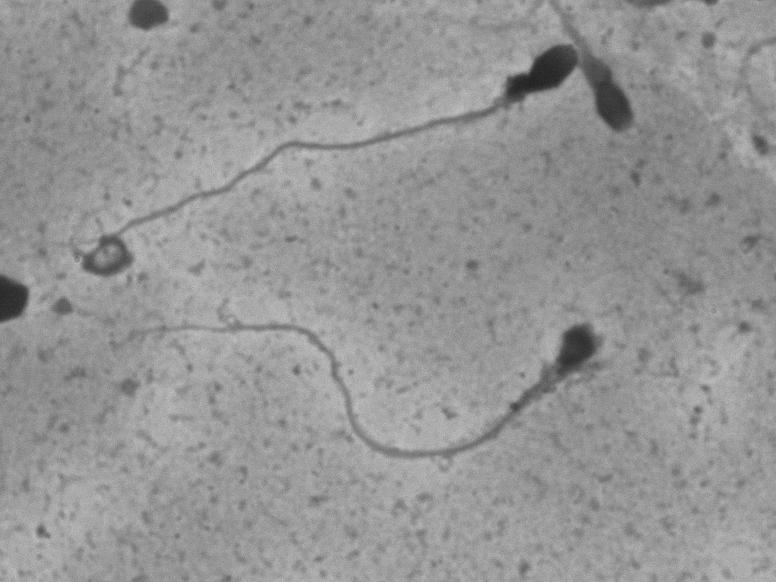Abnormal: (148, 284, 658, 526), (122, 32, 577, 187)
